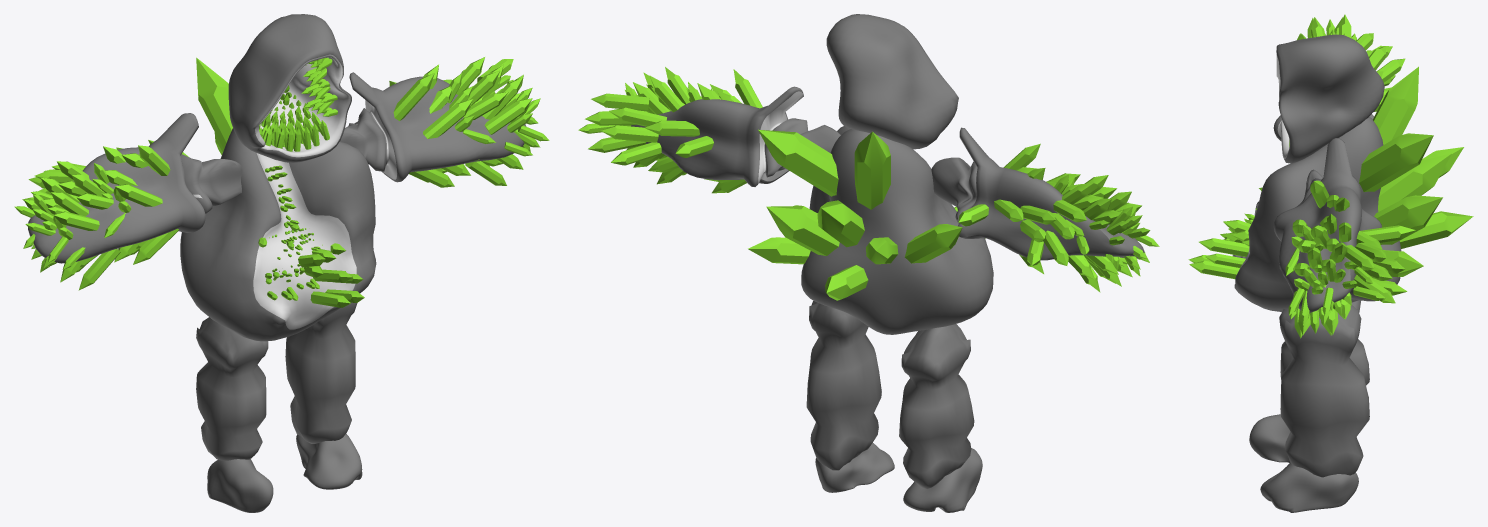
Rendered from FinalBoss.fbx.
The picture shows the model from 3 angles, left to right: view 1: azimuth 30°, elevation 25°; view 2: azimuth 150°, elevation 25°; view 3: azimuth 270°, elevation 25°; orthographic projection. The views are drawn at different scales.
Parts seen in each view (by area): view 1: Cube.001, Cube.002, Cube, Cube.320, Cube.321, Cube.322, Cube.323, Cube.325, Cube.043, Cube.040, Cube.013, Cube.021 (+6 smaller); view 2: Cube.001, Cube.002, Cube, Cube.320, Cube.321, Cube.324, Cube.322, Cube.325, Cube.323, Cube.330, Cube.327, Cube.329 (+16 smaller); view 3: Cube.321, Cube, Cube.001, Cube.002, Cube.323, Cube.324, Cube.325, Cube.327, Cube.330, Cube.322, Cube.332, Cube.320 (+14 smaller).
Boxes of the visible parts, x1=… form: Cube.001: x1=180, y1=128, x2=376, y2=341; Cube.002: x1=28, y1=72, x2=526, y2=263; Cube: x1=228, y1=14, x2=351, y2=162; Cube.320: x1=196, y1=317, x2=268, y2=460; Cube.321: x1=285, y1=302, x2=357, y2=443; Cube.322: x1=207, y1=459, x2=273, y2=512; Cube.323: x1=296, y1=433, x2=362, y2=489; Cube.325: x1=196, y1=57, x2=232, y2=149; Cube.043: x1=115, y1=99, x2=472, y2=206; Cube.040: x1=138, y1=73, x2=434, y2=175; Cube.013: x1=53, y1=98, x2=532, y2=230; Cube.021: x1=78, y1=161, x2=506, y2=290; Cube.001: x1=801, y1=126, x2=993, y2=334; Cube.002: x1=631, y1=86, x2=1144, y2=260; Cube: x1=826, y1=14, x2=958, y2=149; Cube.320: x1=899, y1=324, x2=974, y2=488; Cube.321: x1=806, y1=301, x2=881, y2=470; Cube.324: x1=758, y1=129, x2=838, y2=196; Cube.322: x1=903, y1=448, x2=982, y2=512; Cube.325: x1=854, y1=131, x2=890, y2=209; Cube.323: x1=815, y1=442, x2=894, y2=492; Cube.330: x1=766, y1=205, x2=839, y2=255; Cube.327: x1=817, y1=200, x2=864, y2=247; Cube.329: x1=904, y1=224, x2=962, y2=263; Cube.321: x1=1279, y1=305, x2=1369, y2=477; Cube: x1=1276, y1=34, x2=1384, y2=163; Cube.001: x1=1232, y1=117, x2=1401, y2=311; Cube.002: x1=1273, y1=100, x2=1381, y2=312; Cube.323: x1=1260, y1=462, x2=1358, y2=512; Cube.324: x1=1359, y1=133, x2=1433, y2=191; Cube.325: x1=1373, y1=66, x2=1418, y2=144; Cube.327: x1=1378, y1=153, x2=1451, y2=211; Cube.330: x1=1374, y1=195, x2=1442, y2=244; Cube.322: x1=1249, y1=414, x2=1290, y2=462; Cube.332: x1=1400, y1=211, x2=1473, y2=248; Cube.320: x1=1280, y1=300, x2=1369, y2=385.
Bounding box in the file's own units: 865 × 718 × 408.
